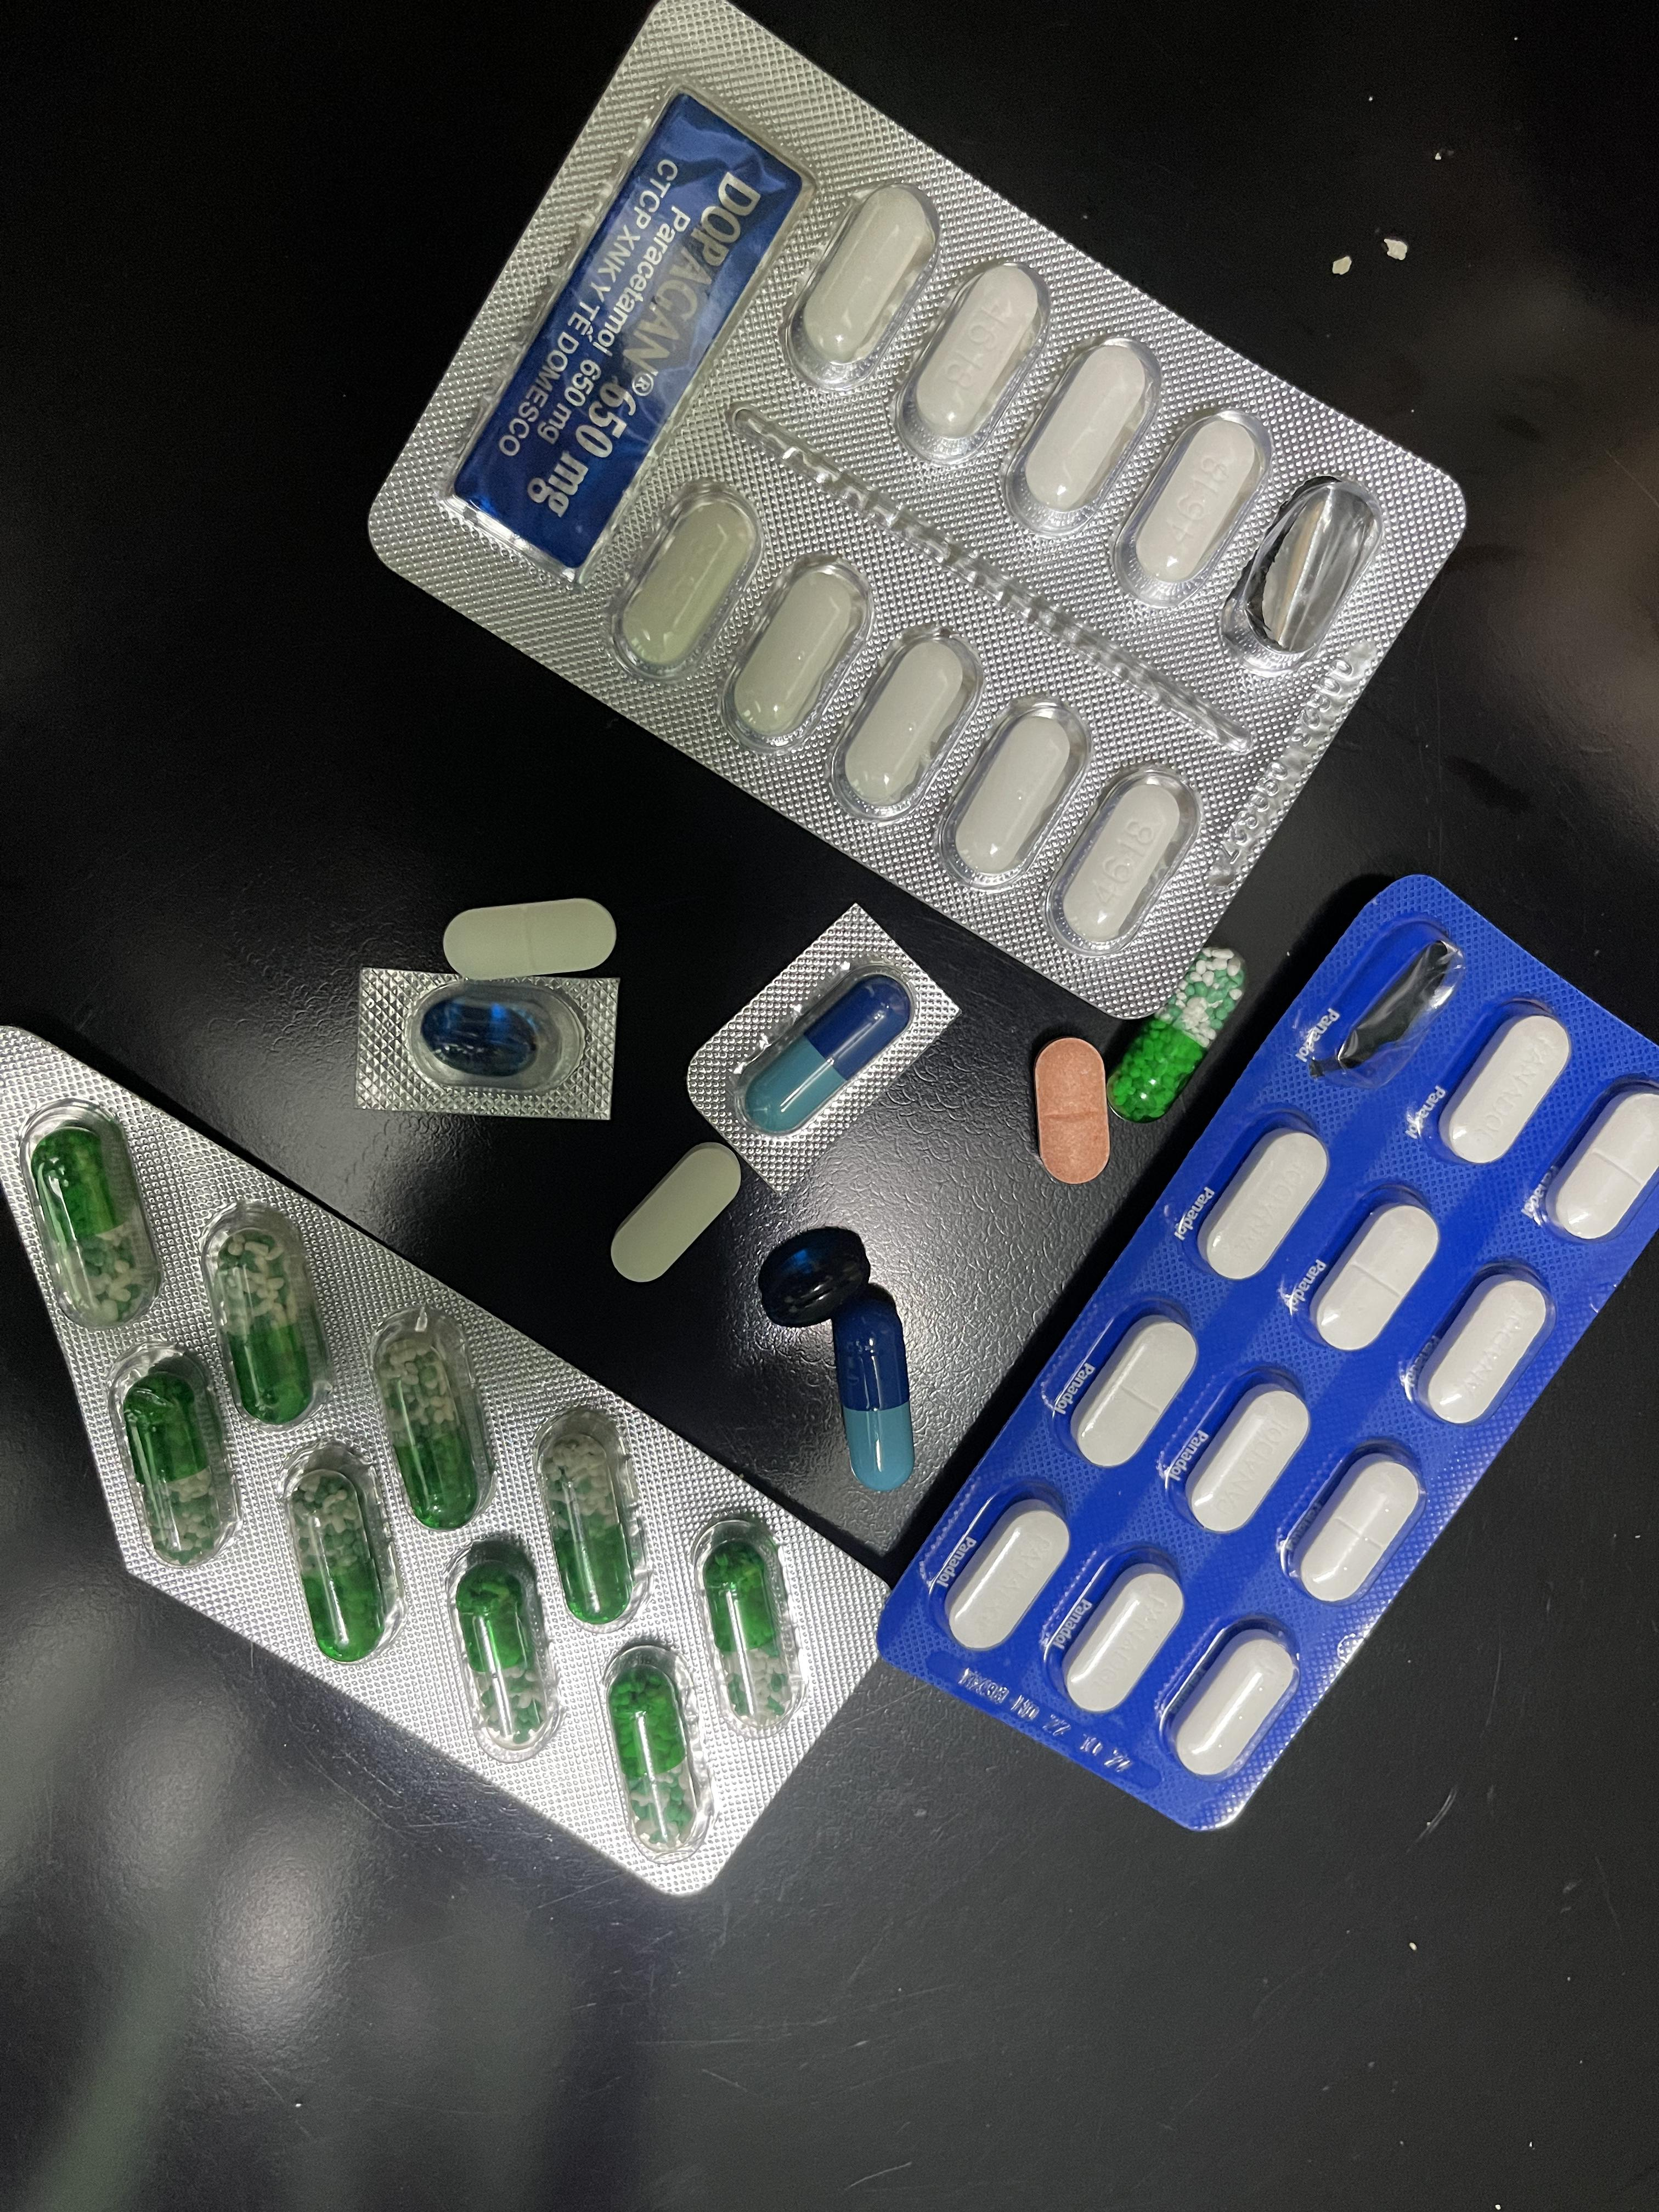Lincomyxin_500mg: (756, 1226, 873, 1325), (418, 995, 545, 1075)
Loratadine_10mg: (1033, 1038, 1110, 1183)
Paracetamol_350mg: (1415, 1268, 1553, 1432), (1290, 1446, 1425, 1609), (1168, 1623, 1298, 1785), (1310, 1198, 1443, 1355), (1178, 1383, 1309, 1540), (1436, 1014, 1575, 1160), (1199, 1127, 1326, 1284), (945, 1498, 1070, 1653), (1063, 1561, 1185, 1716), (1542, 1085, 1659, 1242), (1077, 1318, 1197, 1467), (443, 899, 619, 977)
Paracetamol_500mg: (997, 336, 1157, 538), (782, 178, 936, 385), (894, 261, 1051, 463), (1112, 404, 1269, 606), (608, 484, 758, 686), (828, 627, 983, 822), (934, 700, 1089, 885), (1047, 768, 1199, 941), (727, 564, 863, 738), (610, 1144, 742, 1278)
Paracetamol_650mg: (202, 1200, 338, 1420), (108, 1345, 237, 1566), (282, 1444, 406, 1669), (446, 1536, 559, 1761), (33, 1127, 153, 1324), (695, 1517, 802, 1735), (1107, 954, 1243, 1115), (375, 1332, 476, 1526), (545, 1440, 633, 1618), (610, 1665, 695, 1844)
pill: (744, 968, 911, 1134), (833, 1289, 913, 1489)
